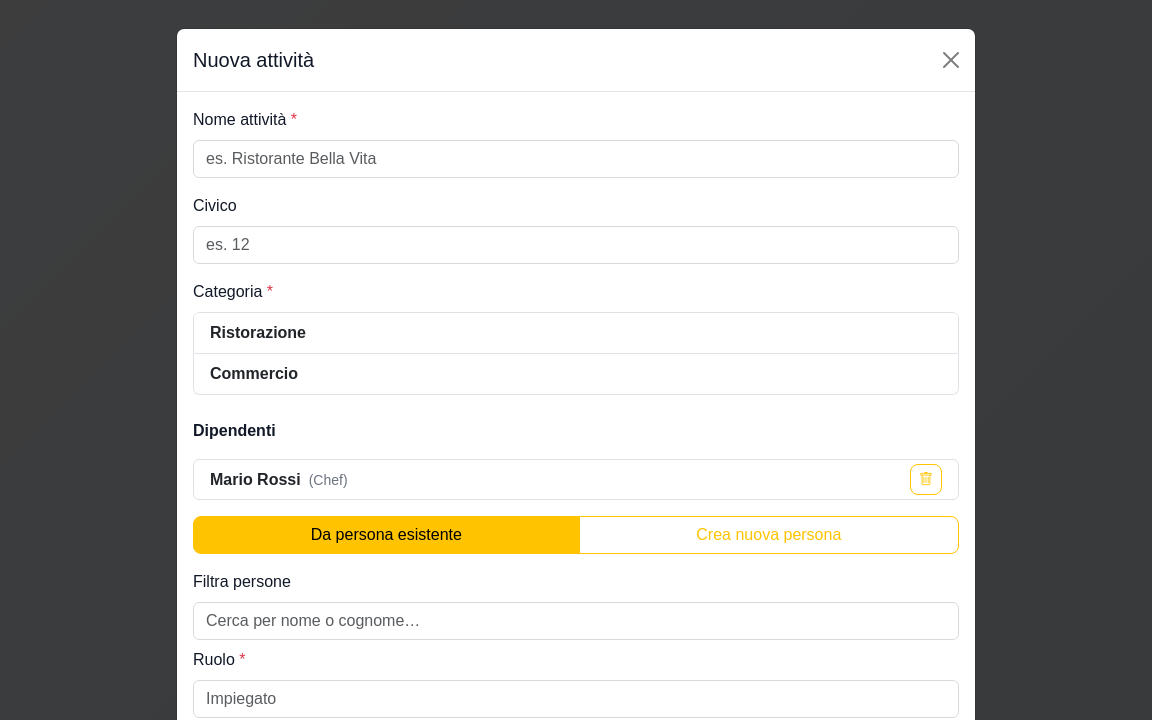
Scenario: ActivityCreateModal › removes employee from pending list when remove is clicked
Click remove button
Click the button with class "btn-outline-danger": (926, 480) [910, 464, 942, 495]
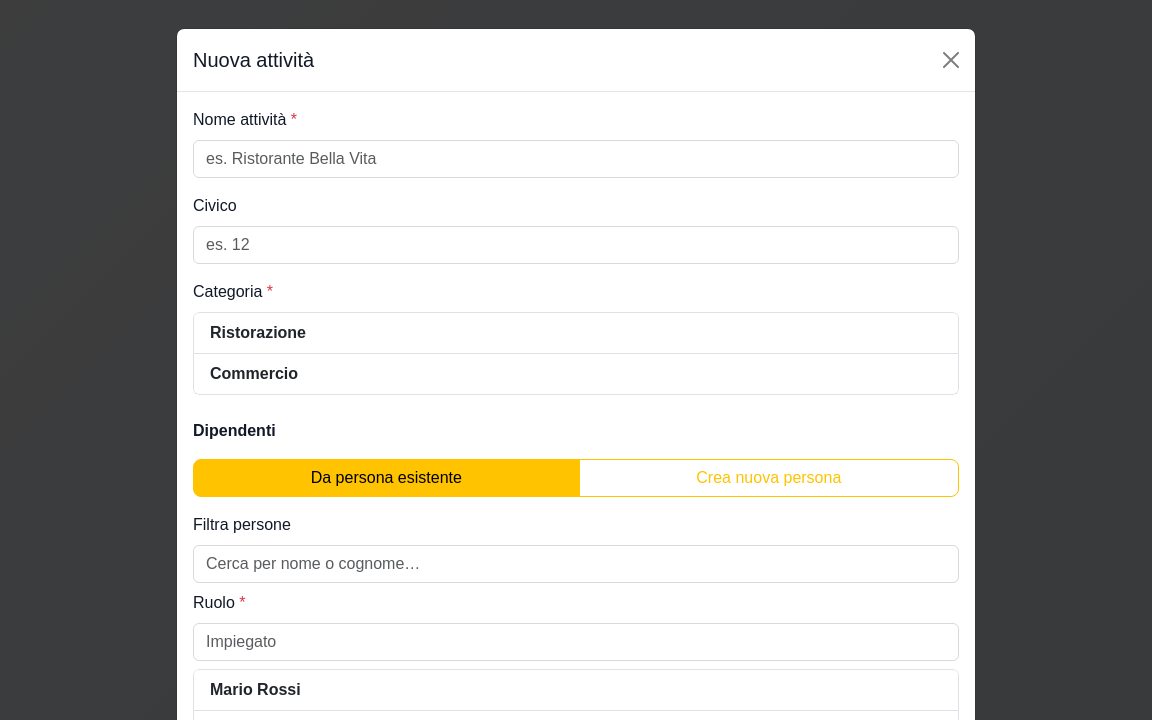
Now the button with class "btn-outline-danger" is gone
